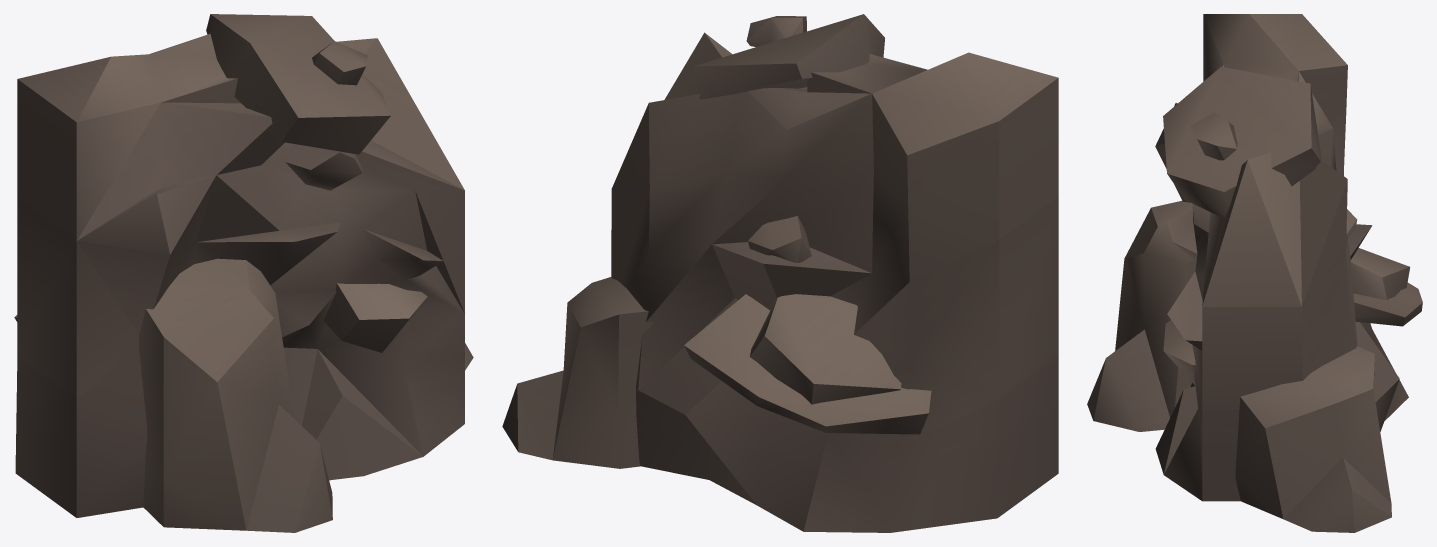
The model's file is rubble_half.gltf.
3 renders of one model, left to right at view 1: azimuth 30°, elevation 25°; view 2: azimuth 150°, elevation 25°; view 3: azimuth 270°, elevation 25°, orthographic. The views are drawn at different scales.
Parts seen in each view (by area): view 1: rubble_half; view 2: rubble_half; view 3: rubble_half.
Boxes of the visible parts, x1,y1,x2,y2 form: rubble_half: (14, 14, 473, 532); rubble_half: (502, 14, 1058, 532); rubble_half: (1087, 14, 1422, 532).
Bounding box in the file's own units: 4 × 3.5 × 3.
Materials: 1 (1 with a texture image).
